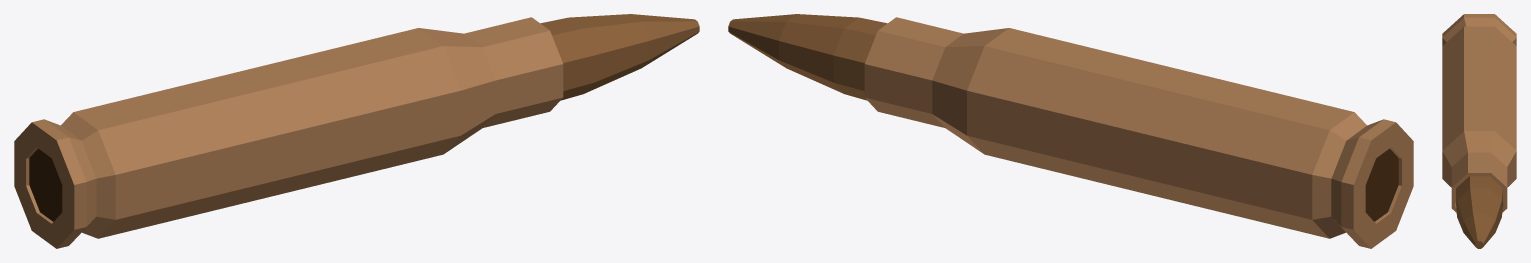
The model's file is SM_BulletLite_02.fbx.
3 views of the same model, side by side, from view 1: azimuth 30°, elevation 25°; view 2: azimuth 150°, elevation 25°; view 3: azimuth 270°, elevation 25° (orthographic). The views are drawn at different scales.
Parts seen in each view (by area): view 1: SM_BulletLite_02; view 2: SM_BulletLite_02; view 3: SM_BulletLite_02.
Boxes of the visible parts, x1,y1,x2,y2 form: SM_BulletLite_02: (14, 14, 699, 248); SM_BulletLite_02: (728, 14, 1413, 248); SM_BulletLite_02: (1442, 14, 1516, 248).
Size of the model in its own units: 0.0625 by 0.00995 by 0.00995.
1 material, 1 textured.
